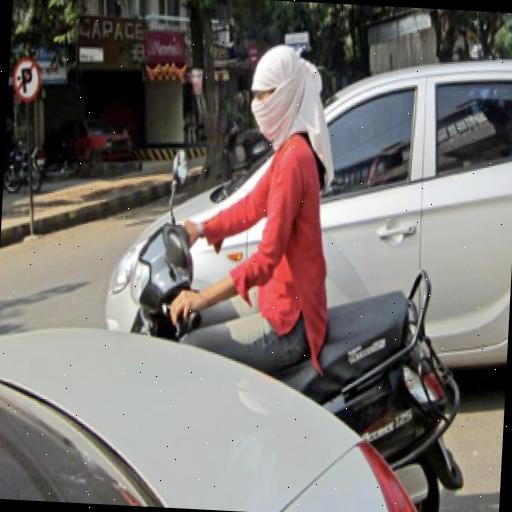no helmet: (128, 26, 353, 358)
